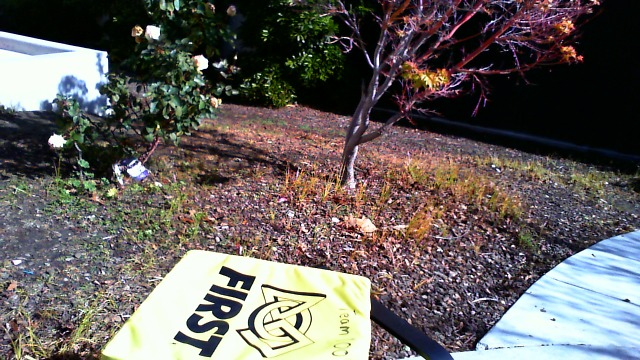cube: (99, 251, 373, 360)
